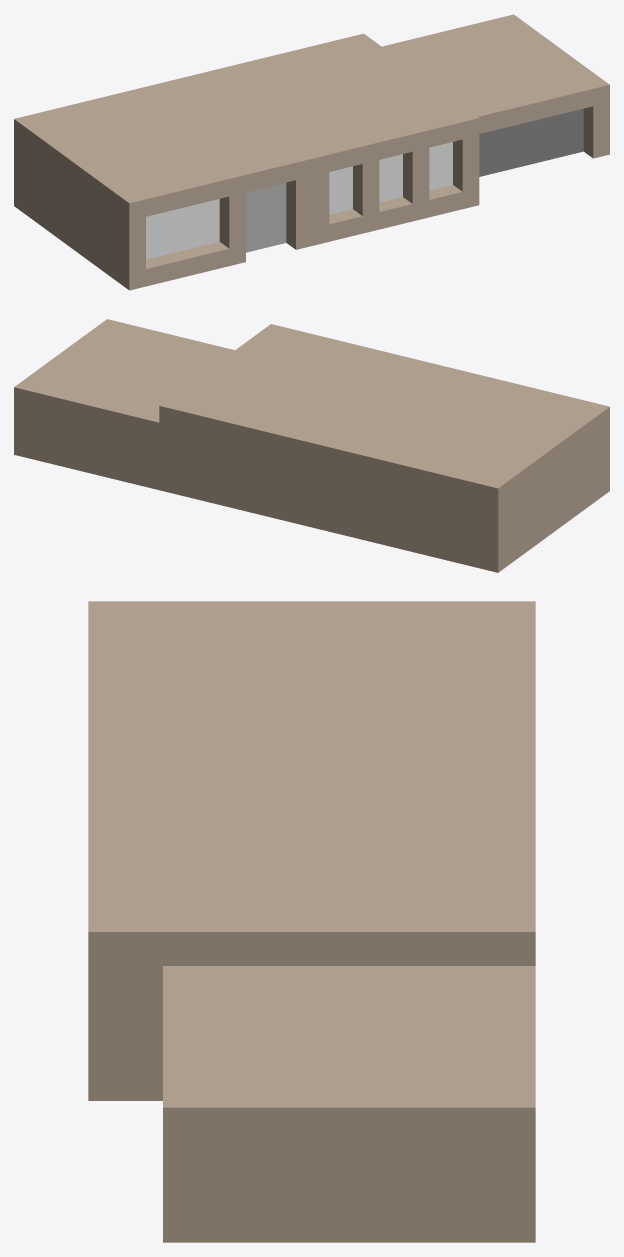
The model's file is house05.fbx.
3 renders of one model, top to bottom at view 1: azimuth 30°, elevation 25°; view 2: azimuth 150°, elevation 25°; view 3: azimuth 270°, elevation 25°, orthographic. The views are drawn at different scales.
Visible parts, largest first — view 1: Objekt; view 2: Objekt; view 3: Objekt.
Boxes of the visible parts, x1,y1,x2,y2 form: Objekt: (14, 14, 609, 290); Objekt: (14, 319, 609, 572); Objekt: (88, 601, 535, 1242).
Size of the model in its own units: 30 by 5 by 12.
1 material, 1 textured.
